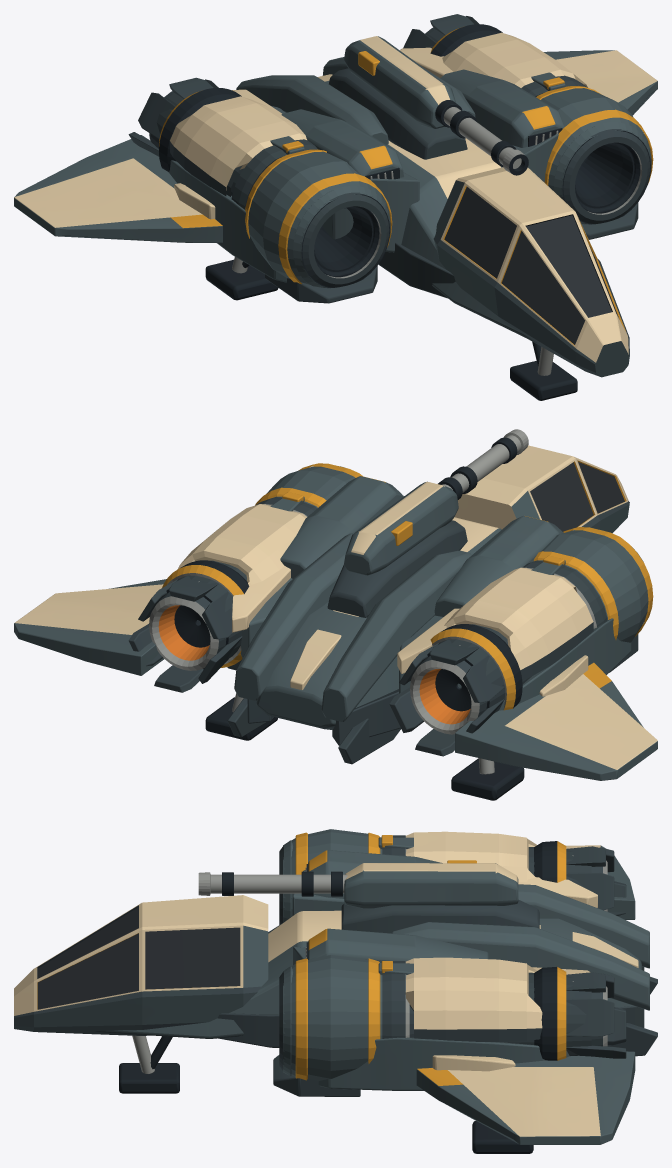
The model's file is buccaneer_01.glb.
3 renders of one model, top to bottom at view 1: azimuth 30°, elevation 25°; view 2: azimuth 150°, elevation 25°; view 3: azimuth 270°, elevation 25°, orthographic.
Visible parts, largest first — view 1: VH_Consolidated_LOD0; view 2: VH_Consolidated_LOD0; view 3: VH_Consolidated_LOD0.
Part boxes in pixels (x1,y1,x2,y2): VH_Consolidated_LOD0: (14, 14, 657, 400); VH_Consolidated_LOD0: (14, 429, 657, 800); VH_Consolidated_LOD0: (14, 829, 657, 1153).
Size of the model in its own units: 11.76 by 4.12 by 11.
Materials: 8 (8 with a texture image).
